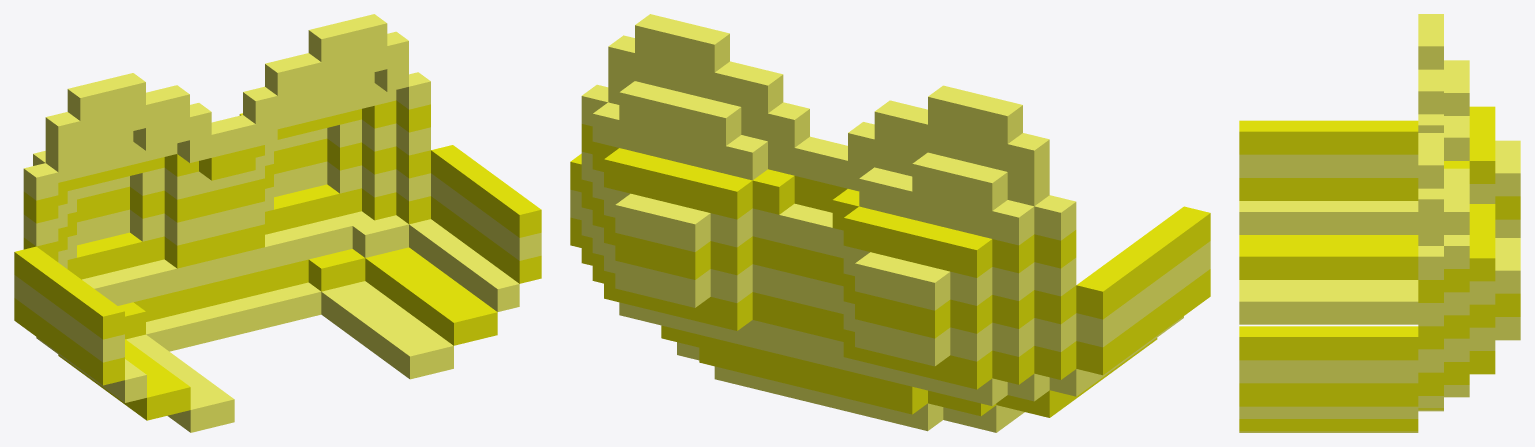
File: MaribelNivel5-0.obj
3 renders of one model, left to right at view 1: azimuth 30°, elevation 25°; view 2: azimuth 150°, elevation 25°; view 3: azimuth 270°, elevation 25°, orthographic. The views are drawn at different scales.
Size of the model in its own units: 2 by 1.2 by 1.1.
Materials: 1 (1 with a texture image).
